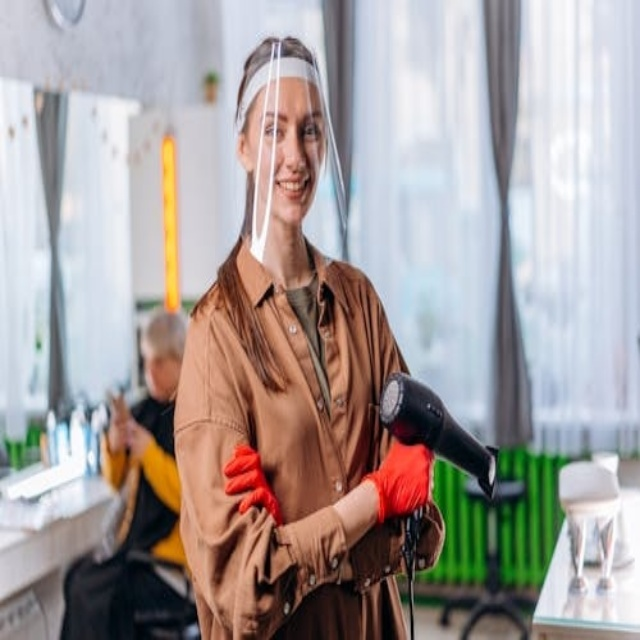Guantes: (361, 438, 434, 525), (223, 443, 284, 527)
Sin_gafas: (255, 110, 325, 154)
Sin_guantes: (109, 409, 147, 456)
Sin_mascara: (265, 165, 315, 215)
